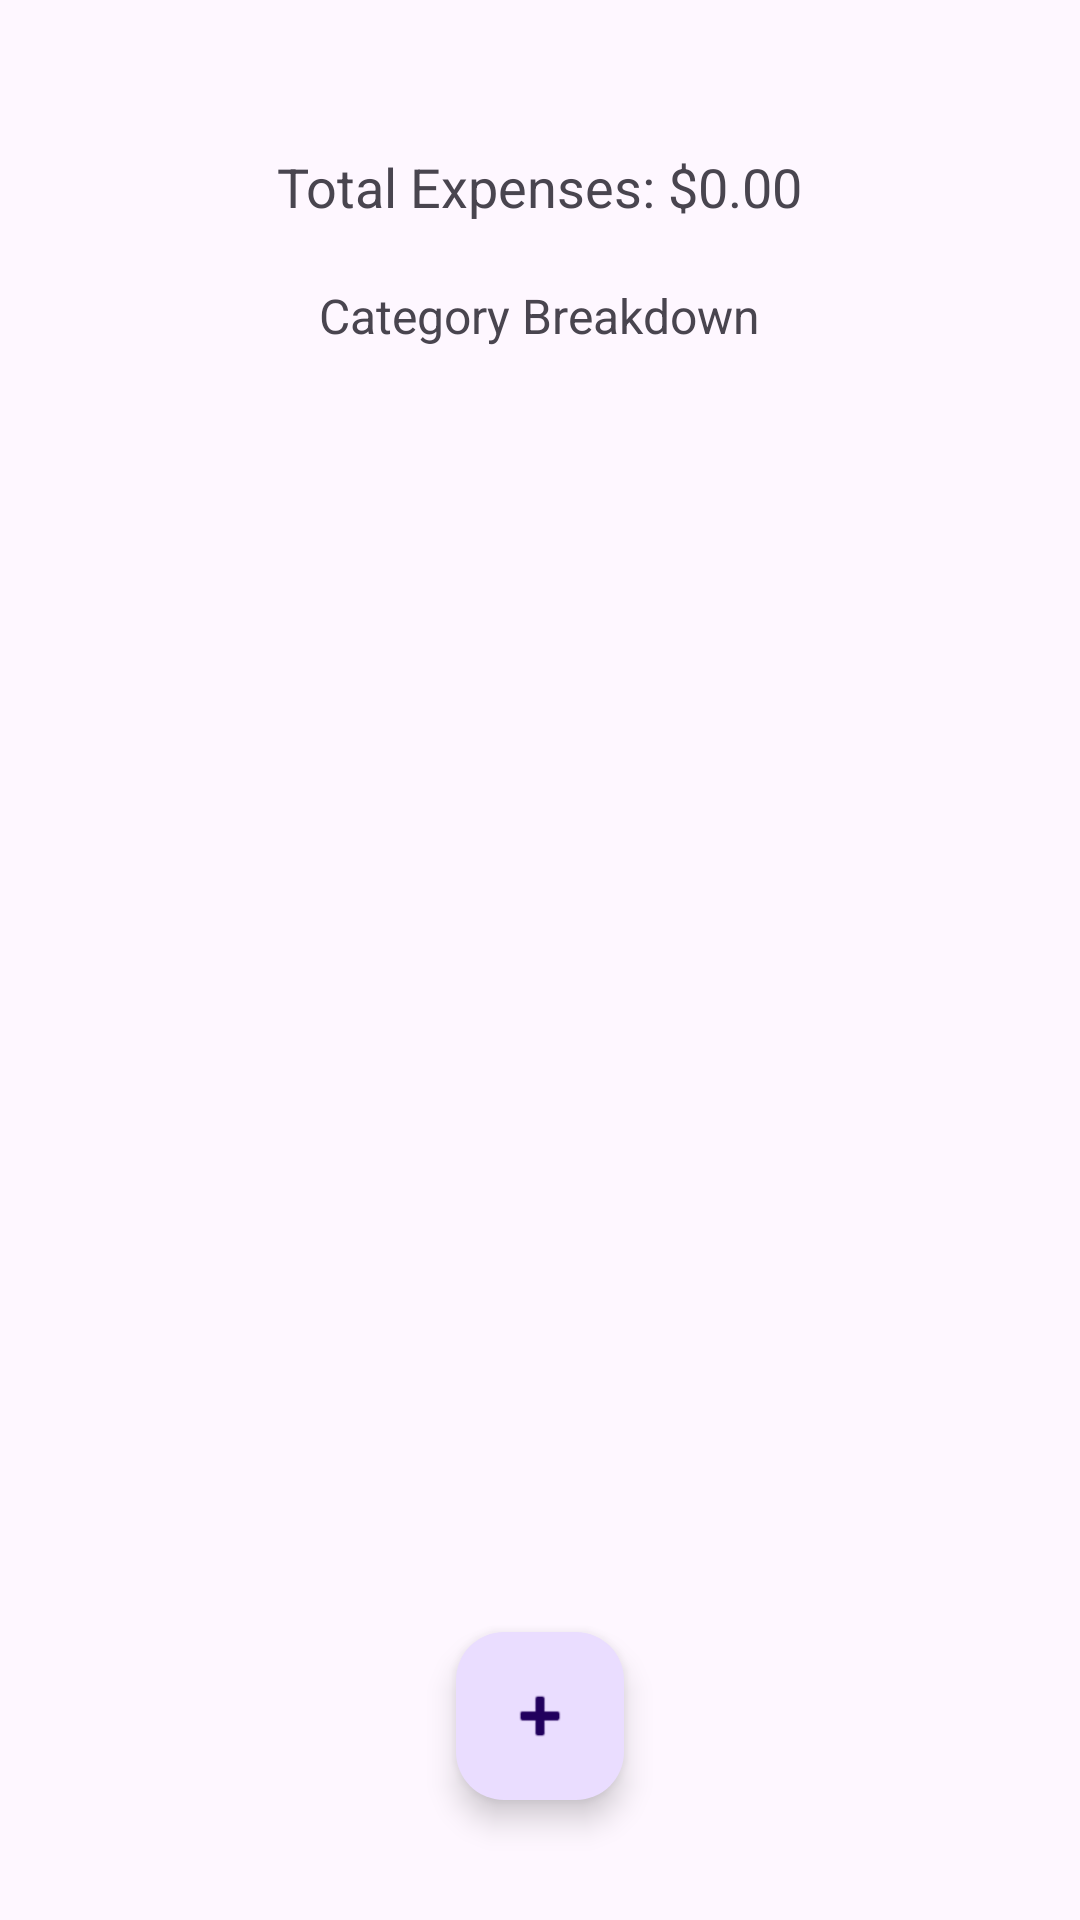

Point at icon controls on the screen. Image size 1080px x 1920px, points as (x,y).
add: (540,1716)
